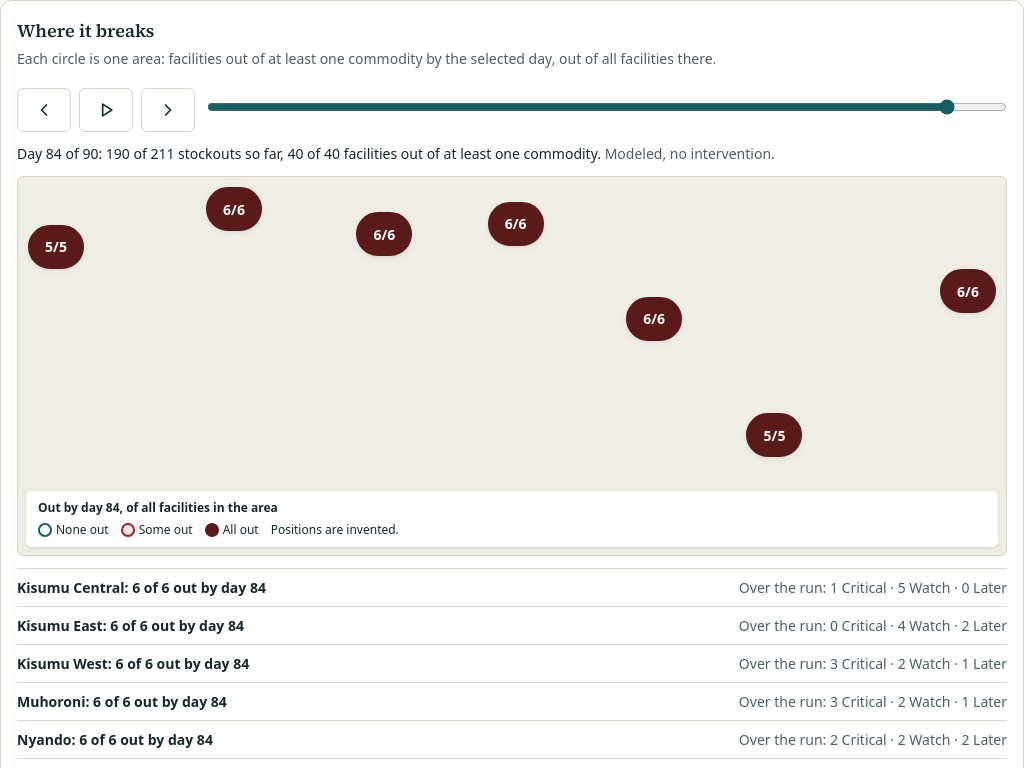
steps a week at a time, stops at the ends and follows the day slider
The width and height of the screenshot is (1024, 768).
Click the button named "Forward one week".
click(168, 110)  # box [141,88,195,132]
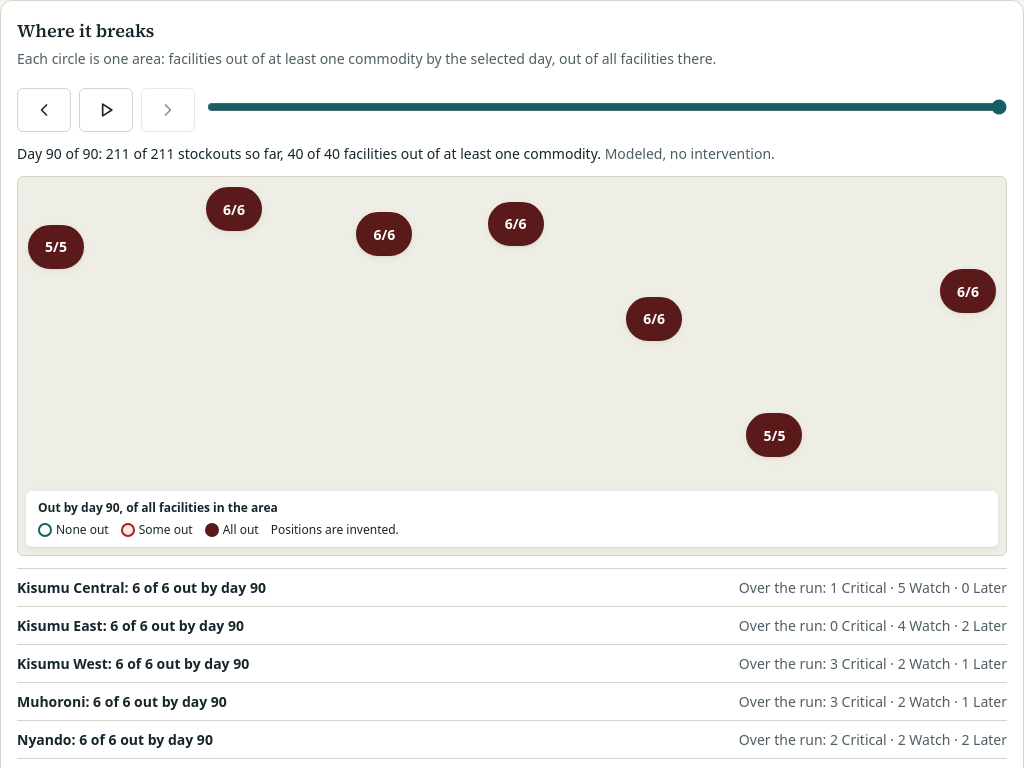
Now the element with id "readout" shows "Day 90 of 90", box [17,144,601,163]
Click the button named "Back one week".
click(44, 110)  # box [17,88,71,132]
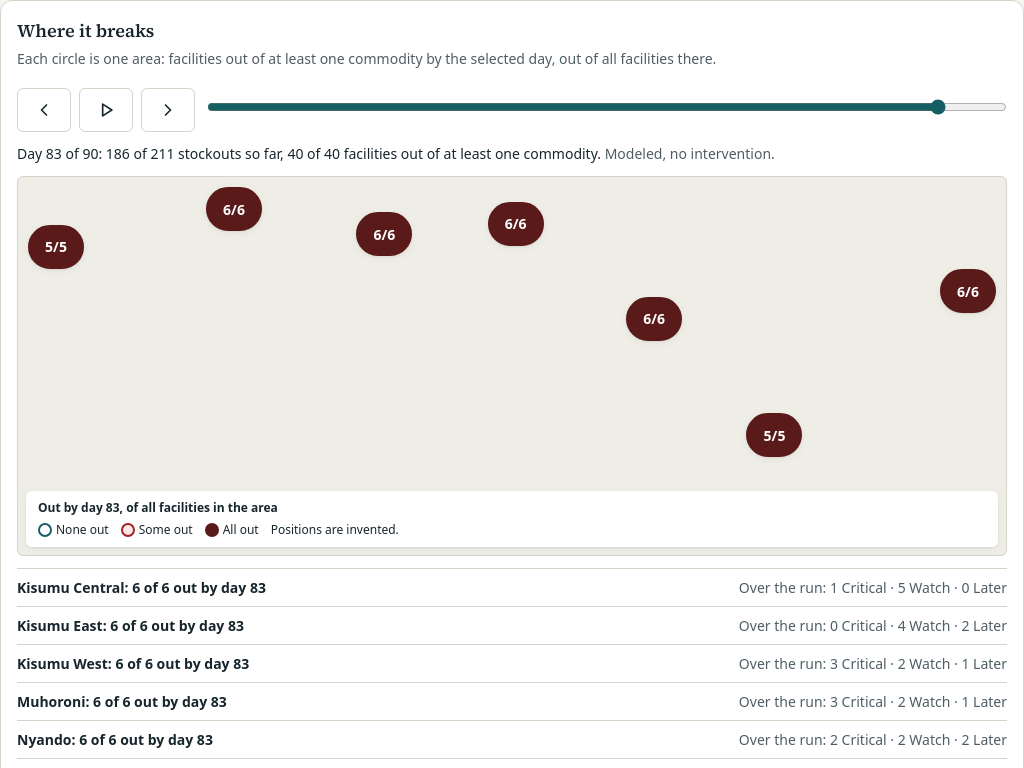
Now the element with id "readout" shows "Day 83 of 90", box [17,144,601,163]
Set the slider named "Day of the 90-day run" to "41" at (572, 107), box [207,85,1007,129]
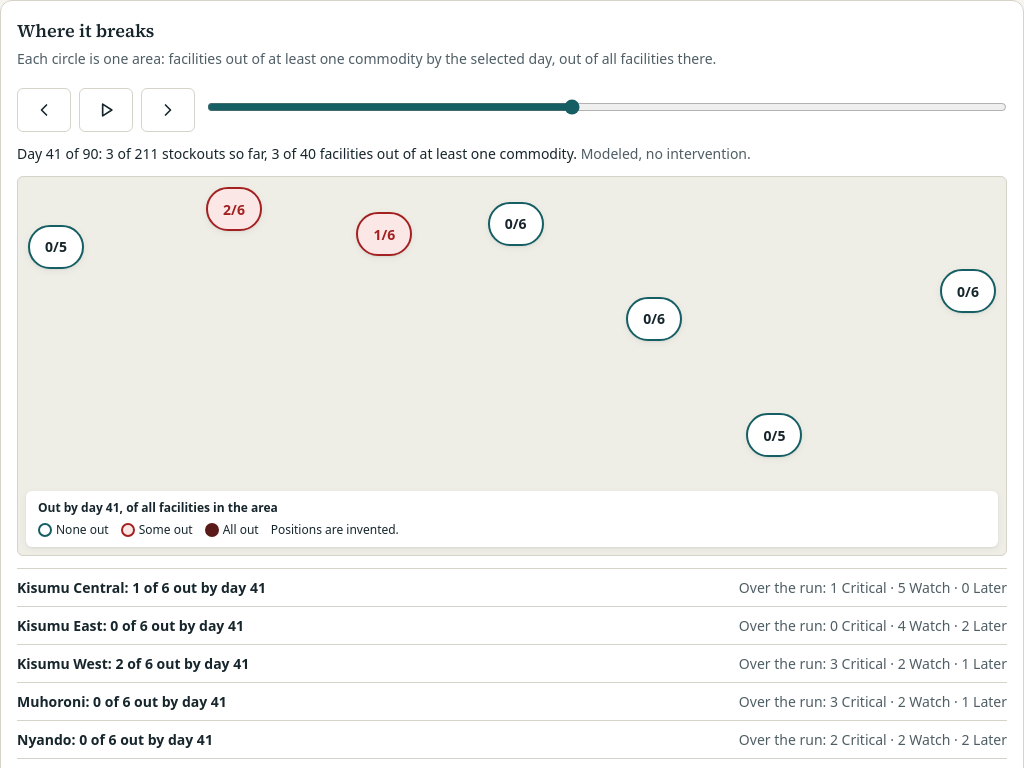
Now the element with id "readout" shows "Day 41 of 90: 3 of 211", box [17,144,577,163]
Now the text "Kisumu West: 2 of 6 out by day 41" is shown, box [17,653,249,674]
